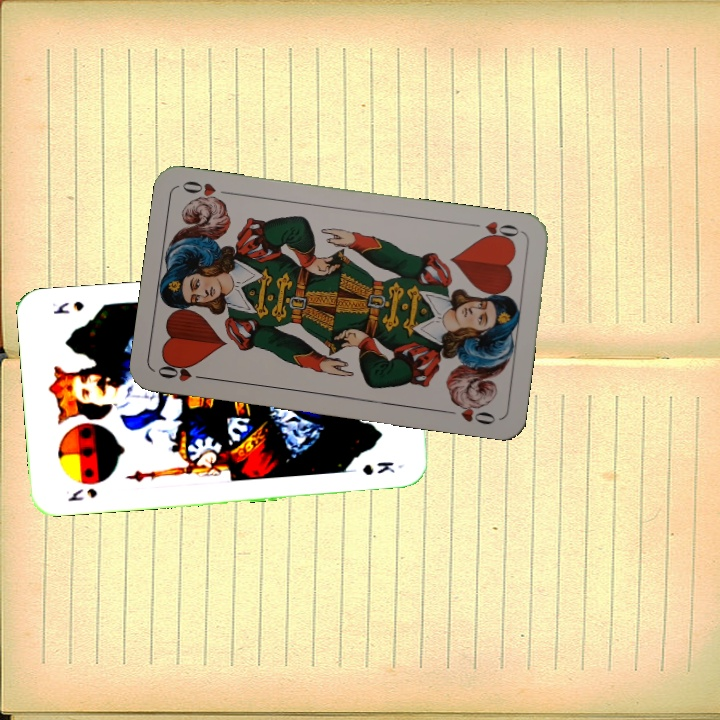HO: (466, 217, 525, 246), (153, 358, 212, 384)
SK: (64, 484, 100, 504)
